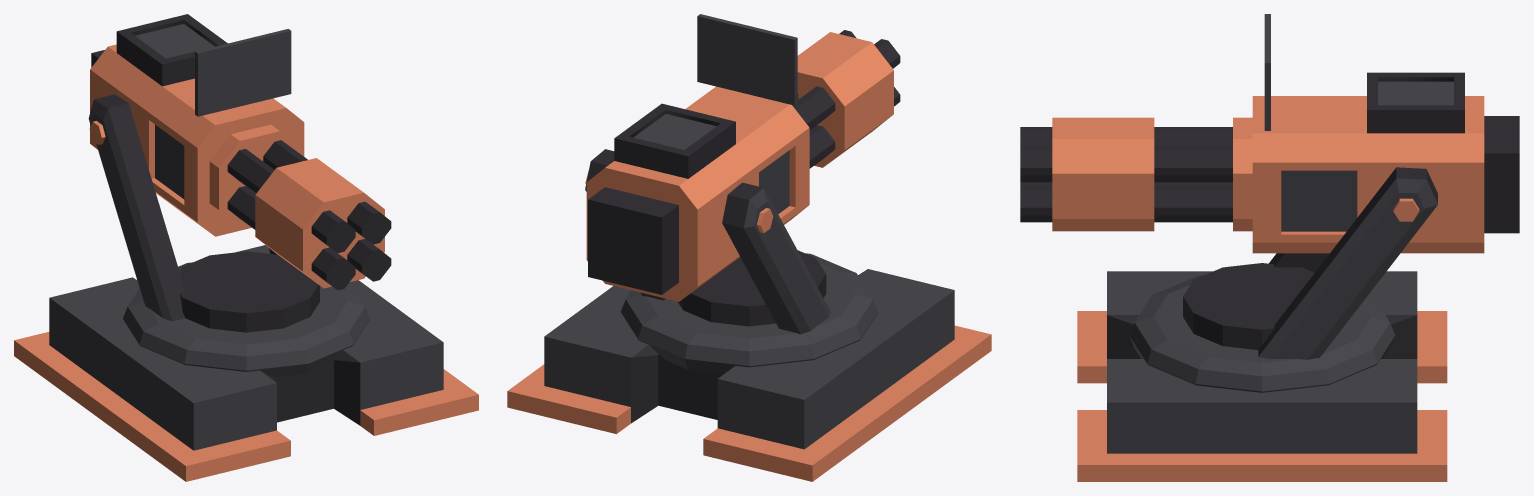
Rendered from RapidTower2.fbx.
3 renders of one model, left to right at view 1: azimuth 30°, elevation 25°; view 2: azimuth 150°, elevation 25°; view 3: azimuth 270°, elevation 25°, orthographic. The views are drawn at different scales.
Parts seen in each view (by area): view 1: Cube.048, Cylinder.030, Cylinder.028, Cylinder.029; view 2: Cube.048, Cylinder.028, Cylinder.030, Cylinder.029; view 3: Cube.048, Cylinder.028, Cylinder.030, Cylinder.029.
Part boxes in pixels (bbox=[...]): Cube.048: bbox=[14, 245, 478, 481]; Cylinder.030: bbox=[88, 94, 369, 377]; Cylinder.028: bbox=[90, 14, 304, 236]; Cylinder.029: bbox=[209, 124, 391, 290]; Cube.048: bbox=[507, 269, 991, 481]; Cylinder.028: bbox=[586, 14, 809, 301]; Cylinder.030: bbox=[585, 149, 877, 372]; Cylinder.029: bbox=[792, 30, 900, 168]; Cube.048: bbox=[1077, 271, 1447, 481]; Cylinder.028: bbox=[1252, 14, 1519, 253]; Cylinder.030: bbox=[1129, 167, 1437, 392]; Cylinder.029: bbox=[1020, 117, 1252, 231].
Size of the model in its own units: 179 by 198 by 245.
